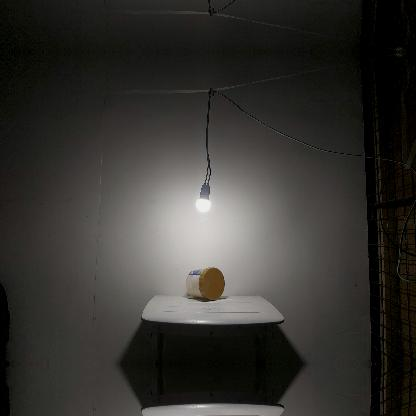Lady-s-Choice: (185, 266, 225, 300)
